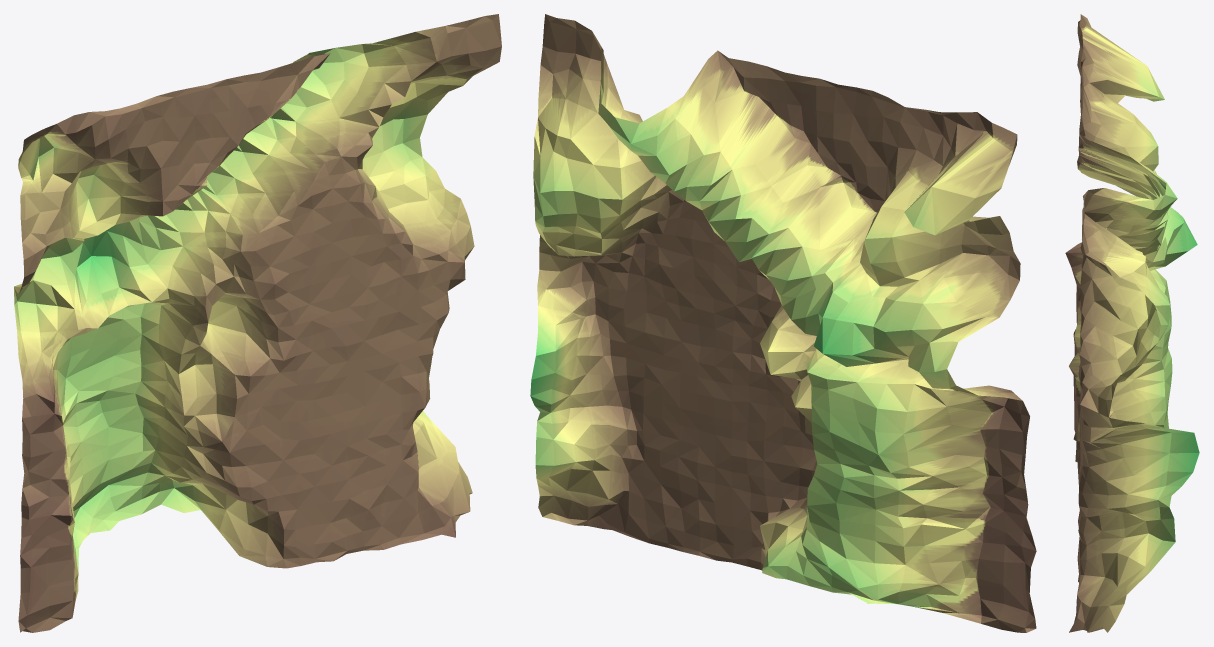
File: refine_depth.obj
3 views of the same model, side by side, from view 1: azimuth 30°, elevation 25°; view 2: azimuth 150°, elevation 25°; view 3: azimuth 270°, elevation 25° (orthographic). The views are drawn at different scales.
Size of the model in its own units: 74.37 by 74.54 by 20.2.
1 material, 1 textured.
